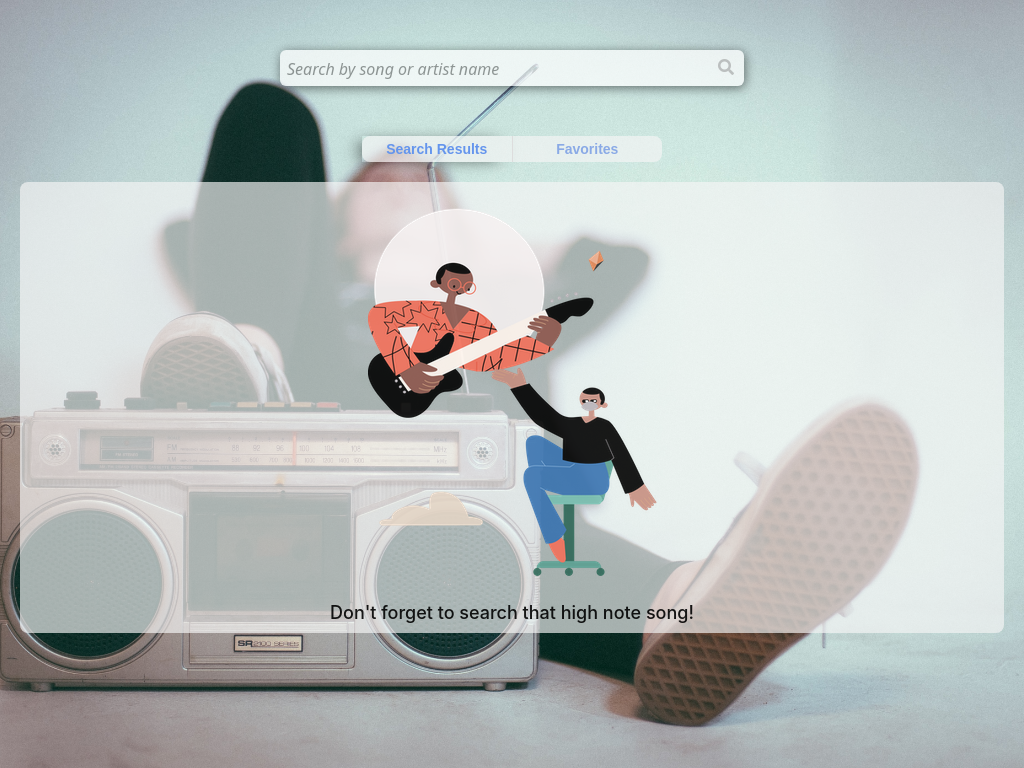
LYRIC APP CONTAINER › should show lyric details when clicked on some lyric card
Type "arijit" into the field with placeholder "Search by song or artist name".
click(512, 68); type("arijit")  # box [280,50,744,86]
Then press Enter
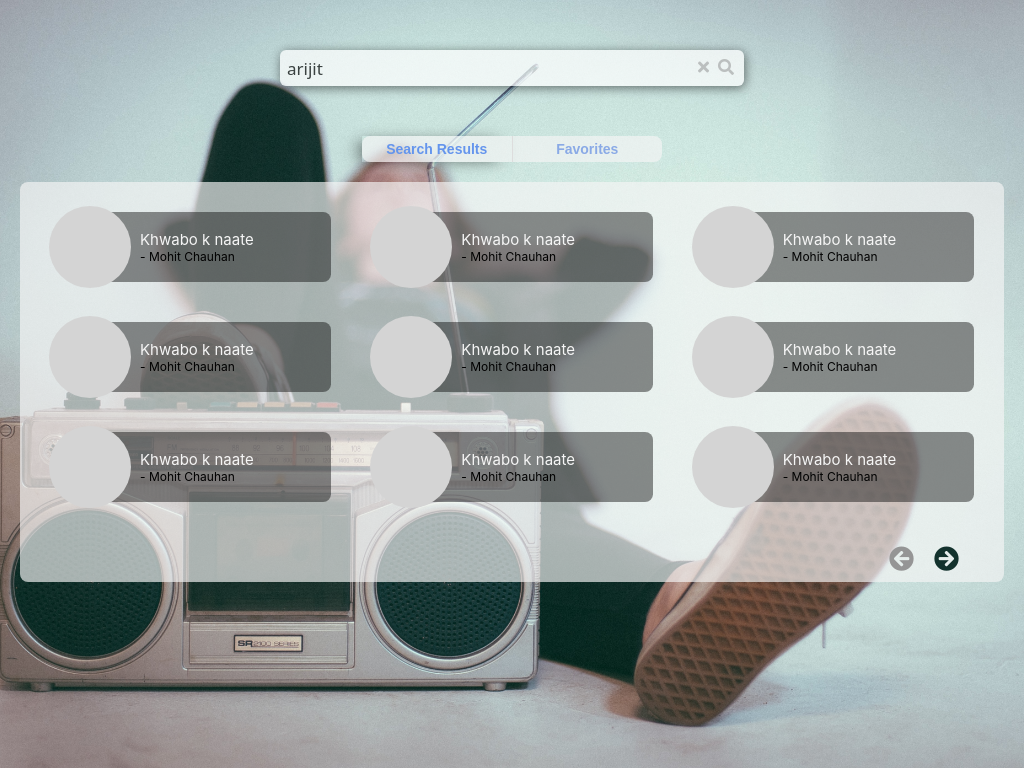
Click the 1st text "Khwabo k naate".
click(197, 240)  # box [140,230,254,249]
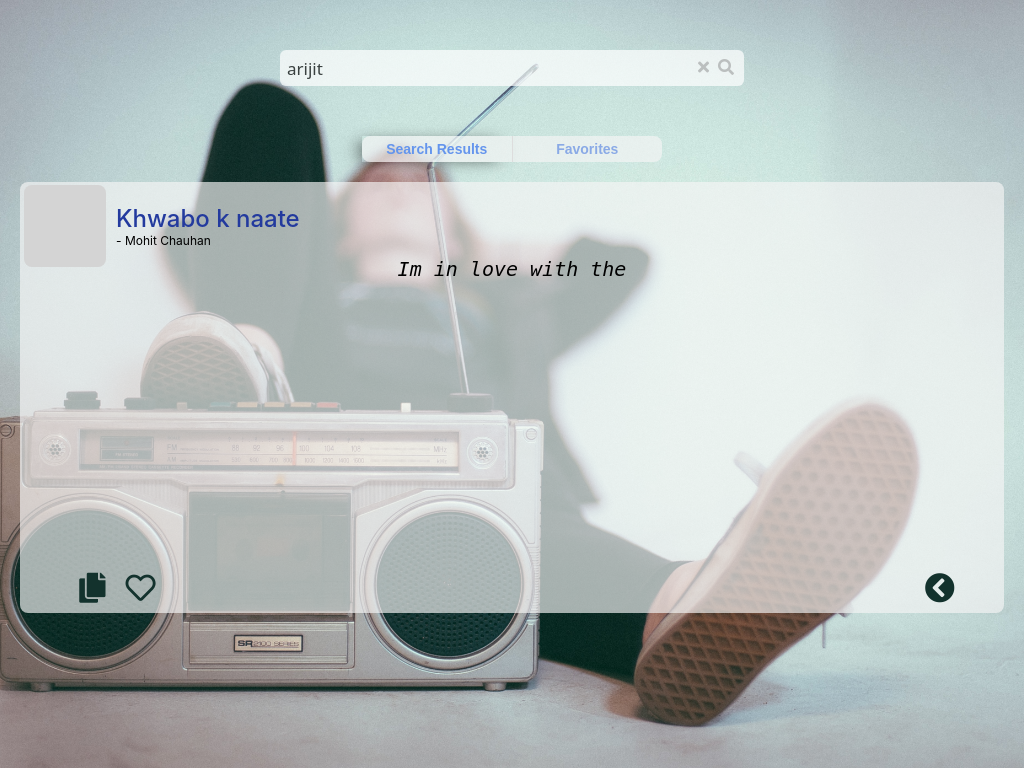
Check: the text "Im in love with the" is shown, box [398,257,626,281]
